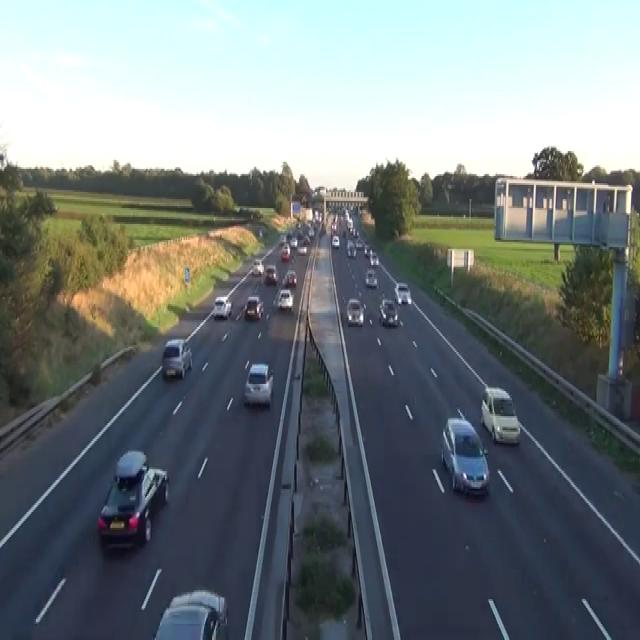Car: (97, 448, 169, 546), (440, 409, 490, 496), (152, 588, 228, 638), (480, 386, 520, 444), (243, 363, 273, 407), (161, 338, 192, 378), (379, 299, 398, 327), (346, 297, 364, 325), (212, 295, 232, 320), (245, 295, 263, 320), (394, 283, 411, 304), (277, 288, 293, 309), (264, 263, 278, 285), (282, 268, 297, 286), (365, 268, 377, 286), (252, 258, 264, 276), (346, 240, 356, 258), (281, 244, 290, 262), (369, 251, 379, 265), (297, 240, 307, 254), (355, 238, 364, 249), (331, 235, 339, 247), (278, 235, 286, 245), (289, 237, 297, 247), (363, 244, 369, 256), (347, 219, 353, 231), (303, 234, 310, 243), (308, 226, 314, 236), (352, 228, 359, 236), (286, 231, 292, 240), (331, 221, 336, 231), (259, 228, 262, 236)
